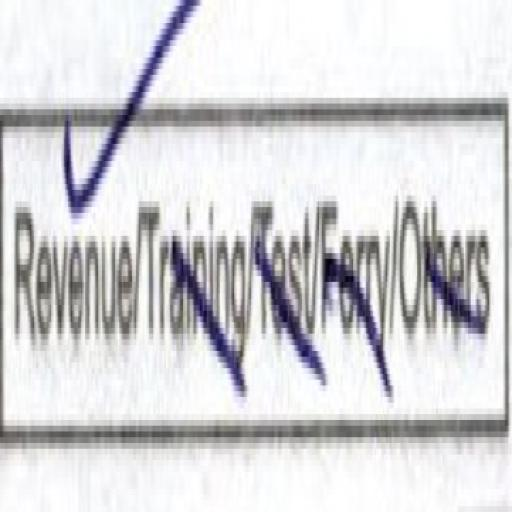check: (4, 48, 145, 452)
